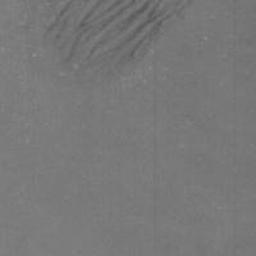Water spot: (14, 0, 196, 92)
